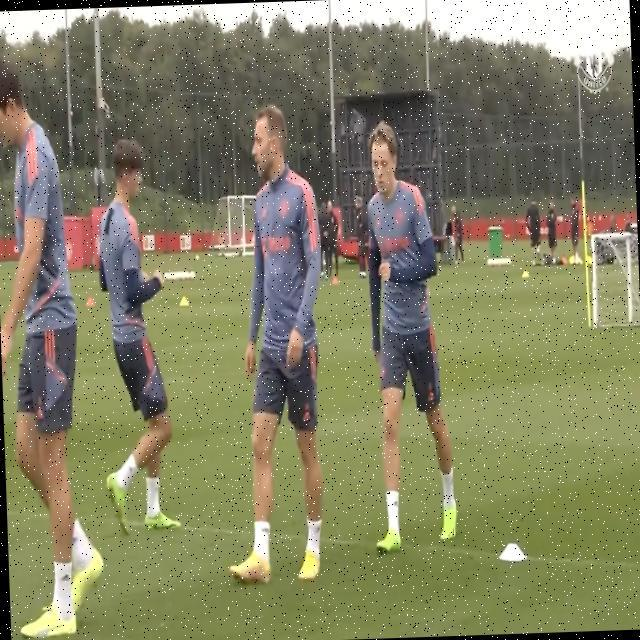Adidas: (302, 408, 312, 423), (427, 388, 435, 404)
